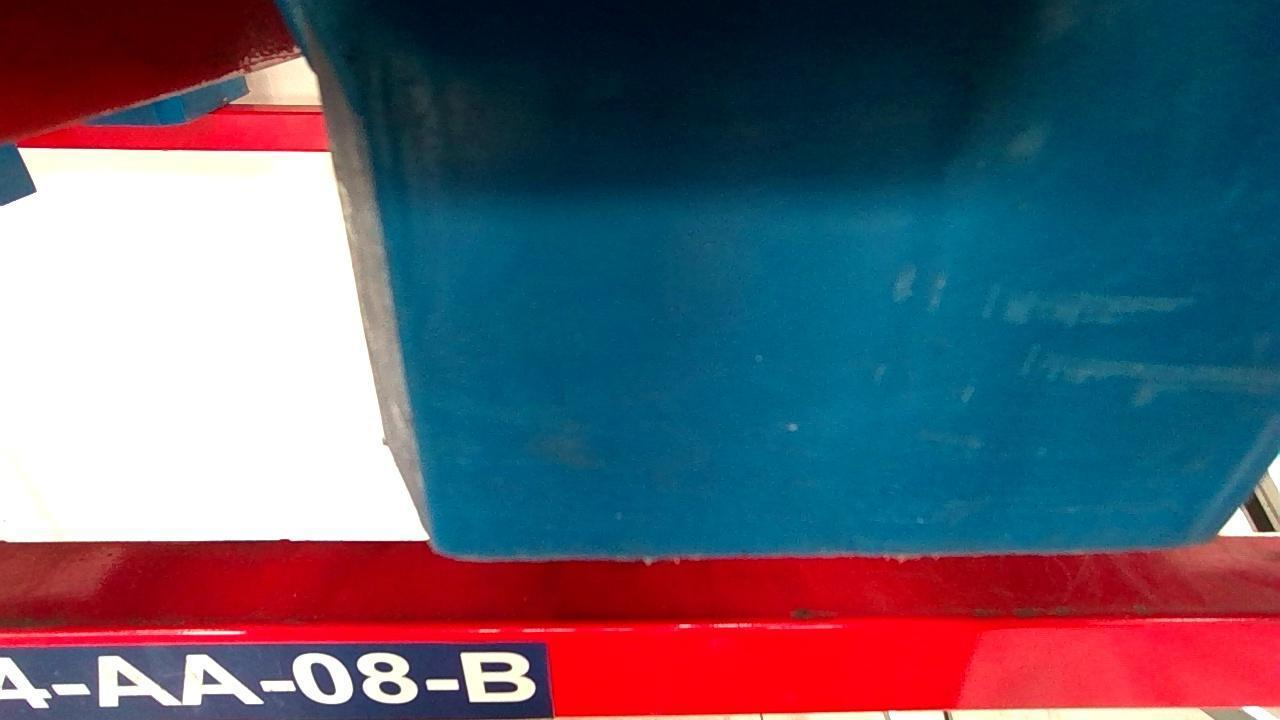h_rack: (0, 614, 1278, 714)
